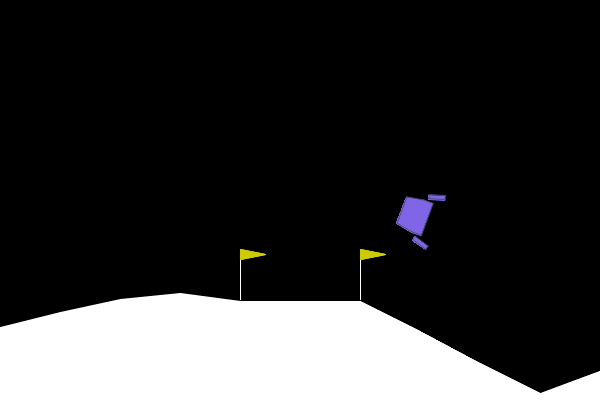lander: (389, 182, 447, 252)
